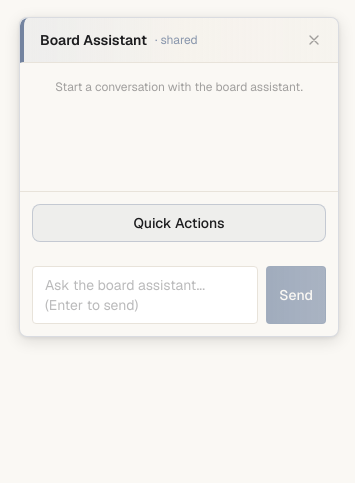
Scenario: GlobalAgentPanel › closes quick actions menu when X is clicked
Step 1. Click the button with test id "quick-actions-trigger" → (179, 223), box x1=32 y1=204 x2=326 y2=242
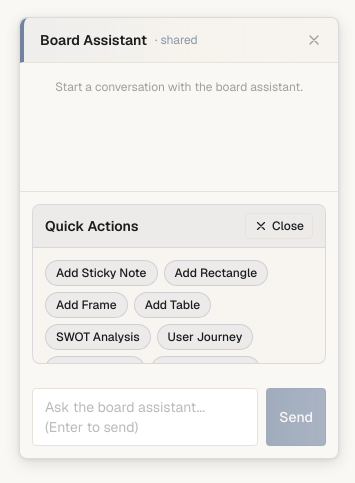
Check: the menu item "SWOT Analysis" is shown, box x1=45 y1=324 x2=151 y2=350
Step 2. Click the button with test id "quick-actions-close" → (279, 226), box x1=245 y1=213 x2=313 y2=239
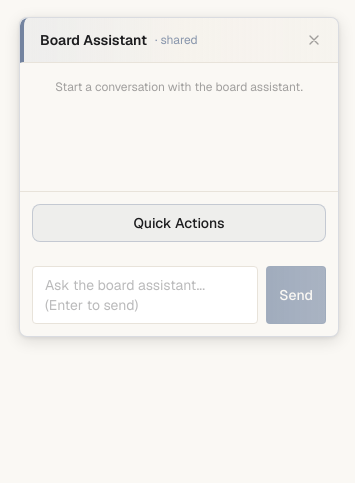
Check: the menu item "SWOT Analysis" is gone
